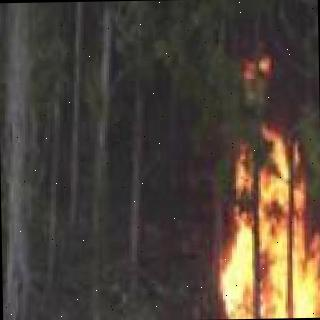fire: (154, 132, 320, 320)
